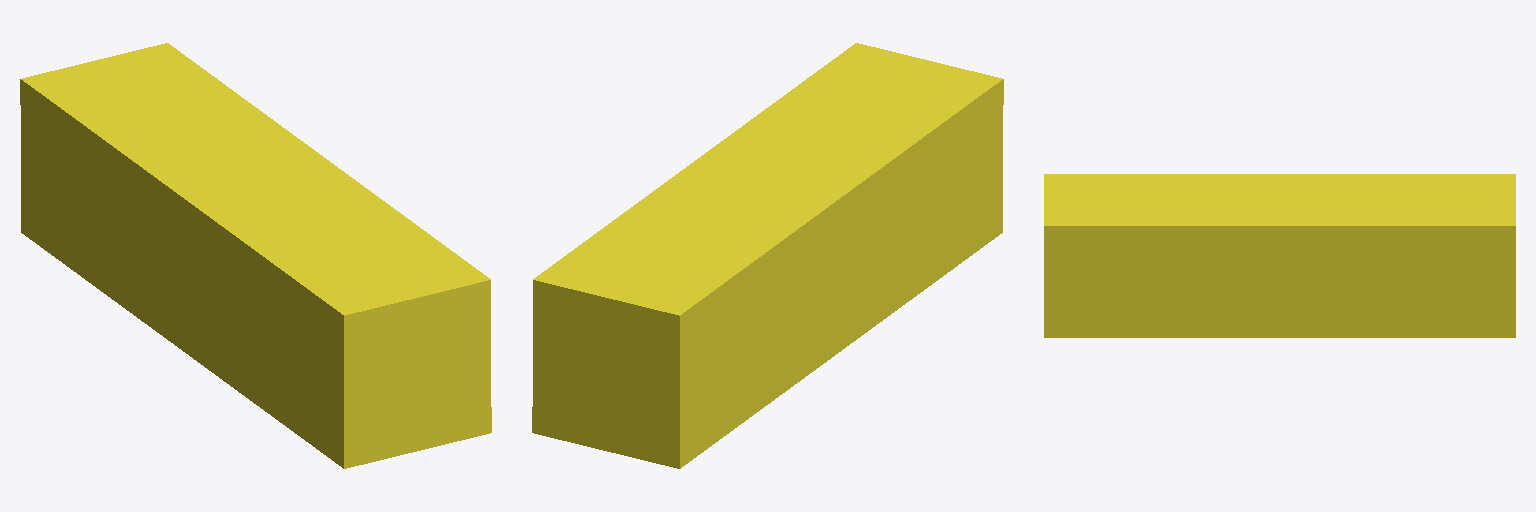
robot.urdf — cam:
<?xml version="1.0" encoding="utf-8"?>
<!-- This URDF was automatically created by SolidWorks to URDF Exporter! Originally created by [author] ([email redacted]) 
     Commit Version: 1.6.0-1-g15f4949  Build Version: 1.6.7594.29634
     For more information, please see http://wiki.ros.org/sw_urdf_exporter -->
<robot
  name="cam">
  <link name="world"/>
 
<gazebo reference="camera_depth_frame">
    <sensor name="camera1" type="depth">
      <always_on>true</always_on>
      <update_rate>20.0</update_rate>
      <camera>
        <horizontal_fov>1.0471975512</horizontal_fov>
        <image>
          <format>R8G8B8</format>
          <width>640</width>
          <height>480</height>
        </image>
        <clip>
          <near>0.05</near>
          <far>8.0</far>
        </clip>
      </camera>
      <plugin filename="libgazebo_ros_openni_kinect.so" name="camera_depth_frame_kinect_controller">
        <baseline>0.1</baseline>
        <alwaysOn>true</alwaysOn>
        <updateRate>10</updateRate>
        <cameraName>camera1</cameraName>
        <imageTopicName>depth/image_raw</imageTopicName>
        <cameraInfoTopicName>depth/camera_info</cameraInfoTopicName>
        <depthImageTopicName>depth/image_raw</depthImageTopicName>
        <depthImageCameraInfoTopicName>depth/camera_info</depthImageCameraInfoTopicName>
        <pointCloudTopicName>depth/points</pointCloudTopicName>
        <frameName>camera_depth_optical_frame</frameName>
        <pointCloudCutoff>0.3</pointCloudCutoff>
        <distortion_k1>0.0</distortion_k1>
        <distortion_k2>0.0</distortion_k2>
        <distortion_k3>0.0</distortion_k3>
        <distortion_t1>0.0</distortion_t1>
        <distortion_t2>0.0</distortion_t2>
        <!--
    <CxPrime>0</CxPrime>
    <Cx>0</Cx>
    <Cy>0</Cy>
    <focalLength>0</focalLength>
    <hackBaseline>0</hackBaseline>
-->
      </plugin>
    </sensor>
  </gazebo>
  <!-- Parameterised in part by the values in kinect_properties.urdf.xacro -->
  <joint name="camera_rgb_joint" type="fixed">
    <origin rpy="0 1.57 0" xyz="0.75 0.25 2.5"/>
    <parent link="world"/>
    <child link="camera_rgb_frame"/>
  </joint>
  <link name="camera_rgb_frame">
    <inertial>
      <mass value="0.001"/>
      <origin xyz="0 0 0"/>
      <inertia ixx="0.0001" ixy="0.0" ixz="0.0" iyy="0.0001" iyz="0.0" izz="0.0001"/>
    </inertial>
  </link>
  <joint name="camera_rgb_optical_joint" type="fixed">
    <origin rpy="-1.57079632679 0 -1.57079632679" xyz="0 0 0"/>
    <parent link="camera_rgb_frame"/>
    <child link="camera_rgb_optical_frame"/>
  </joint>
  <link name="camera_rgb_optical_frame">
    <inertial>
      <mass value="0.001"/>
      <origin xyz="0 0 0"/>
      <inertia ixx="0.0001" ixy="0.0" ixz="0.0" iyy="0.0001" iyz="0.0" izz="0.0001"/>
    </inertial>
  </link>
  <joint name="camera_joint" type="fixed">
    <origin rpy="0 0 0" xyz="-0.031 -0.0 -0.016"/>
    <parent link="camera_rgb_frame"/>
    <child link="camera_link"/>
  </joint>
  <link name="camera_link">
    <visual>
      <origin rpy="0 0 1.57079632679" xyz="0 0 0"/>
      <geometry> 
<!--         <mesh filename="package://kinect2/meshes/sensors/kinect.dae"/> -->
        <box size="0.27794 0.07271 0.073"/>

      </geometry>
    </visual>
    <collision>
      <origin rpy="0 0 0" xyz="0.0 0.0 0.0"/>
      <geometry>
        <box size="0.07271 0.27794 0.073"/>
      </geometry>
    </collision>
    <inertial>
      <mass value="0.001"/>
      <origin xyz="0 0 0"/>
      <inertia ixx="0.0001" ixy="0.0" ixz="0.0" iyy="0.0001" iyz="0.0" izz="0.0001"/>
    </inertial>
  </link>
  <!-- The fixed joints & links below are usually published by static_transformers launched by the OpenNi launch 
     files. However, for Gazebo simulation we need them, so we add them here.
     (Hence, don't publish them additionally!) -->
  <joint name="camera_depth_joint" type="fixed">
    <origin rpy="0 0 0" xyz="0 0.0 0"/>
    <parent link="camera_rgb_frame"/>
    <child link="camera_depth_frame"/>
  </joint>
  <link name="camera_depth_frame">
    <inertial>
      <mass value="0.001"/>
      <origin xyz="0 0 0"/>
      <inertia ixx="0.0001" ixy="0.0" ixz="0.0" iyy="0.0001" iyz="0.0" izz="0.0001"/>
    </inertial>
  </link>
  <joint name="camera_depth_optical_joint" type="fixed">
    <origin rpy="-1.57079632679 0 -1.57079632679" xyz="0 0 0"/>
    <parent link="camera_depth_frame"/>
    <child link="camera_depth_optical_frame"/>
  </joint>
  <link name="camera_depth_optical_frame">
    <inertial>
      <mass value="0.001"/>
      <origin xyz="0 0 0"/>
      <inertia ixx="0.0001" ixy="0.0" ixz="0.0" iyy="0.0001" iyz="0.0" izz="0.0001"/>
    </inertial>
  </link>





</robot>

--- Facts derived from the render (not from the file) ---
Views: 3 orthographic renders of the robot side by side, from view 1: azimuth 30°, elevation 25°; view 2: azimuth 150°, elevation 25°; view 3: azimuth 270°, elevation 25°.
Robot: cam — 6 links, 5 joints (5 fixed); root link world; default pose: every joint at zero.
Visible links, largest first — view 1: camera_link; view 2: camera_link; view 3: camera_link.
Link boxes in pixels (x1,y1,x2,y2): camera_link: (20,43,491,468); camera_link: (532,43,1003,468); camera_link: (1044,174,1515,337).
Bounding box of the posed robot: 0.0731 × 0.2779 × 0.0728 m (x, y, z).
Geometry: primitives only (box / cylinder / sphere), no mesh files.
